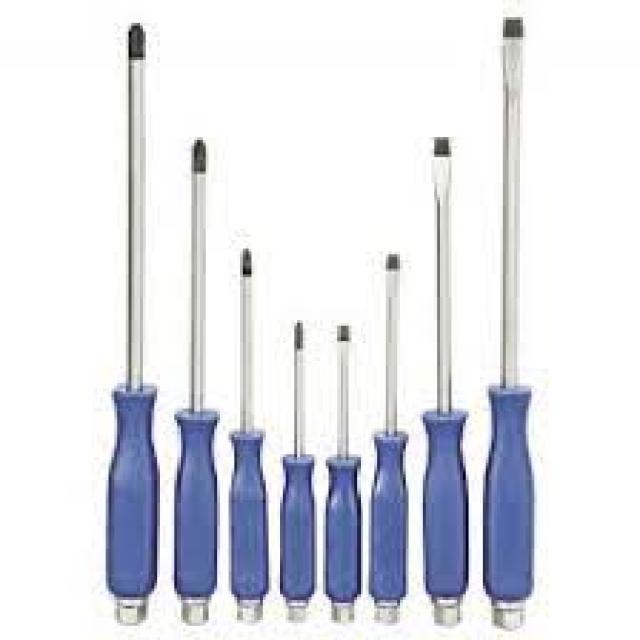screwdriver: (472, 11, 538, 632), (105, 12, 162, 628), (413, 132, 473, 632), (170, 136, 222, 624), (221, 245, 273, 626), (363, 252, 408, 624), (316, 320, 364, 623), (276, 320, 316, 623)
